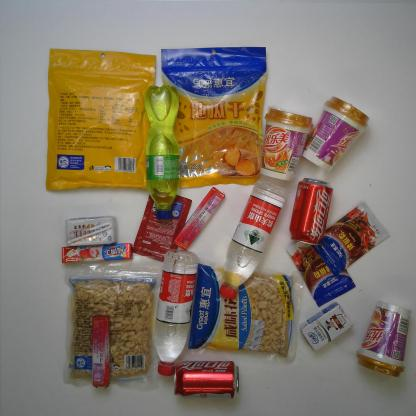Candy: (172, 186, 226, 251), (90, 313, 112, 391), (61, 242, 133, 265)
Dried Fruit: (44, 46, 157, 192), (160, 46, 268, 189), (185, 256, 305, 364), (62, 264, 162, 389)
Drink: (217, 176, 289, 301), (154, 248, 200, 378), (144, 83, 182, 221), (289, 177, 334, 247), (173, 360, 241, 402)
Instant Drink: (302, 95, 370, 174), (355, 299, 413, 379), (259, 105, 314, 183)
Milk: (299, 300, 355, 353), (64, 214, 118, 248)
Seasoner: (311, 199, 392, 276), (286, 240, 357, 309), (132, 188, 192, 263)
